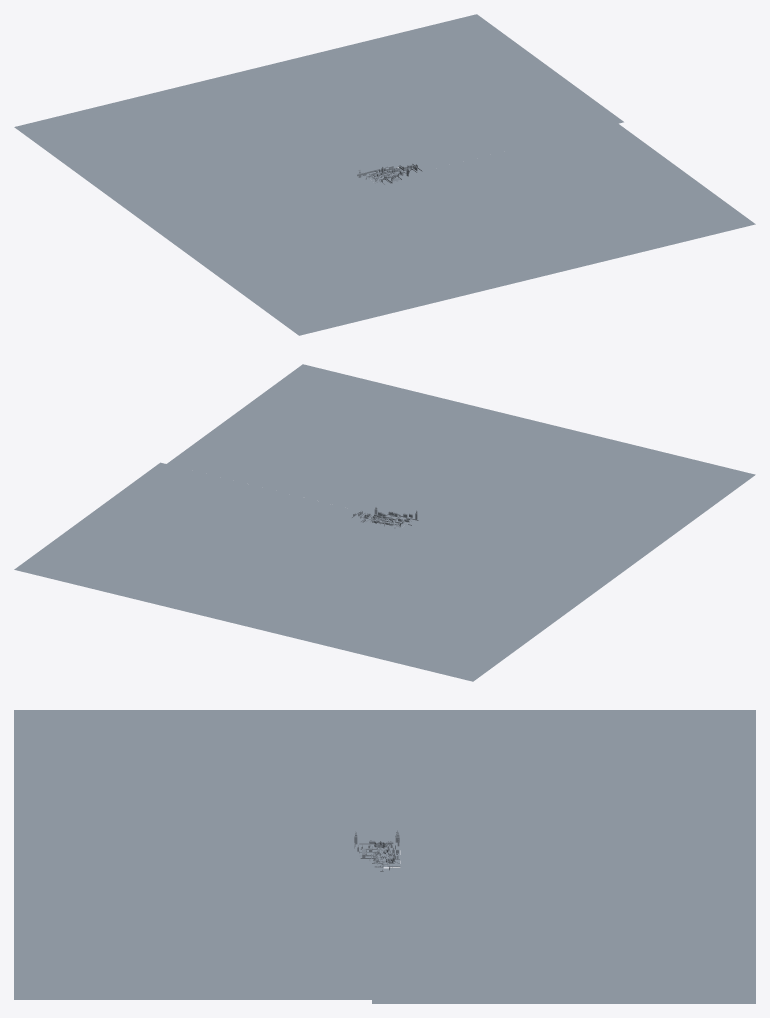
Rendered from gltf__Models__map__Village__waterPark__waterPark_mergedScene_oneMesh.glb.
The picture shows the model from 3 angles, top to bottom: view 1: azimuth 30°, elevation 25°; view 2: azimuth 150°, elevation 25°; view 3: azimuth 270°, elevation 25°; orthographic projection. The views are drawn at different scales.
Visible parts, largest first — view 1: waterPark_mergedScene_oneMesh; view 2: waterPark_mergedScene_oneMesh; view 3: waterPark_mergedScene_oneMesh.
Part boxes in pixels (x1=…): waterPark_mergedScene_oneMesh: x1=14, y1=14, x2=755, y2=335; waterPark_mergedScene_oneMesh: x1=14, y1=364, x2=755, y2=681; waterPark_mergedScene_oneMesh: x1=14, y1=710, x2=755, y2=1003.
Size of the model in its own units: 657 by 15.06 by 701.
Materials: 7 (7 with a texture image).
